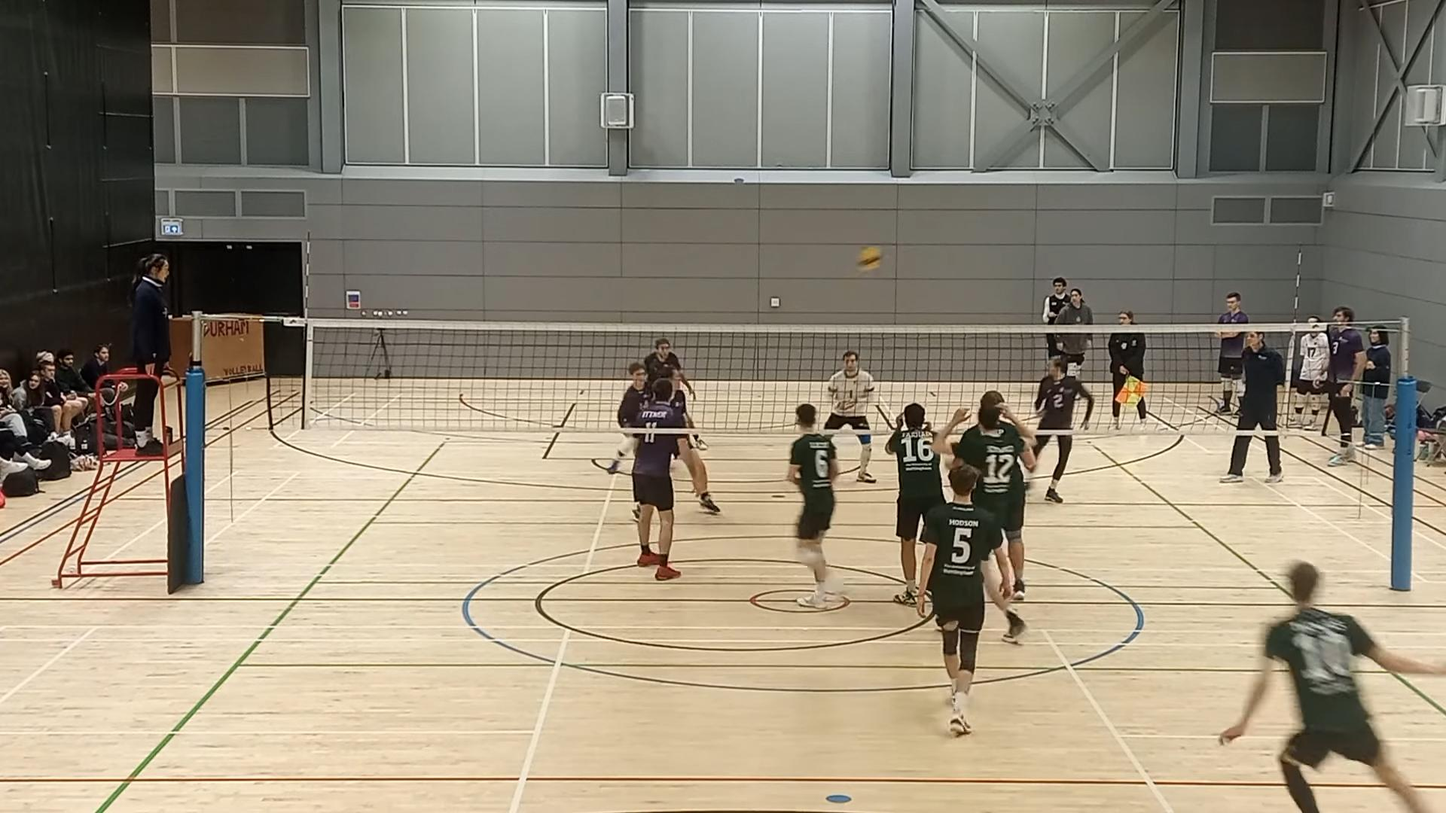Player: (1220, 563, 1445, 812), (920, 465, 1002, 735), (935, 400, 1035, 599), (632, 379, 692, 580), (886, 403, 944, 605), (788, 403, 840, 608), (1032, 358, 1094, 503), (824, 351, 875, 483), (643, 338, 694, 394), (682, 454, 720, 513), (617, 361, 647, 428)
ball: (854, 242, 885, 274)
